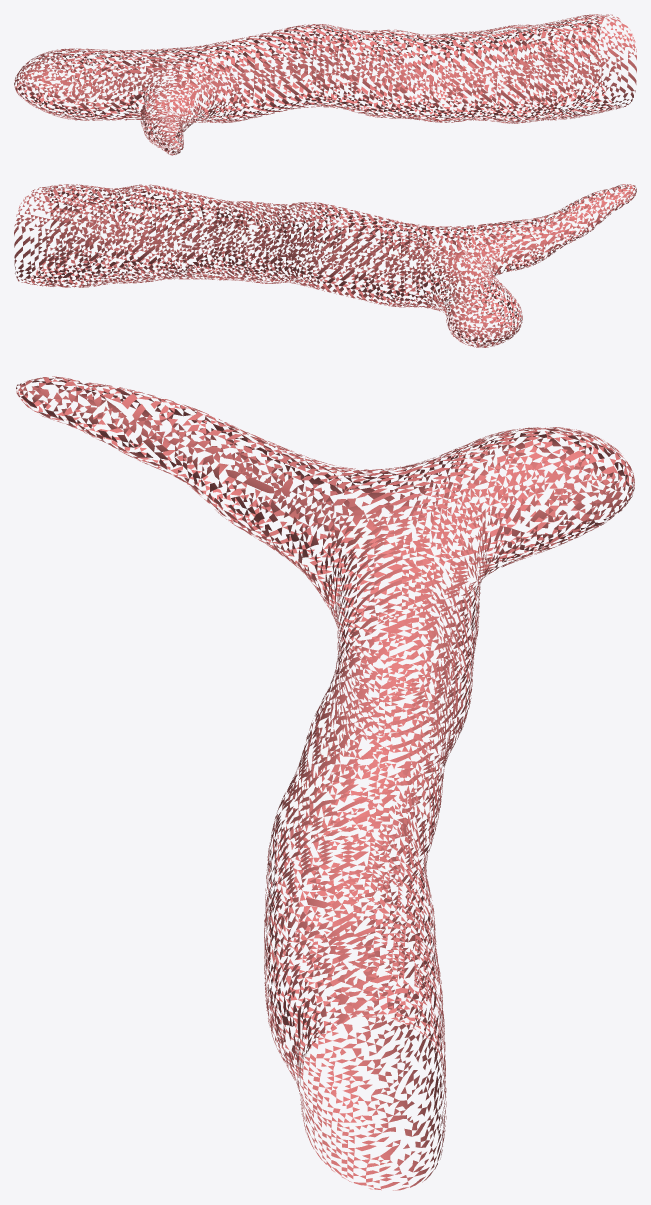
File: morph_000.glb
3 views of the same model, one above another, from view 1: azimuth 30°, elevation 25°; view 2: azimuth 150°, elevation 25°; view 3: azimuth 270°, elevation 25° (orthographic). The views are drawn at different scales.
Bounding box in the file's own units: 100 × 28.31 × 50.38.
